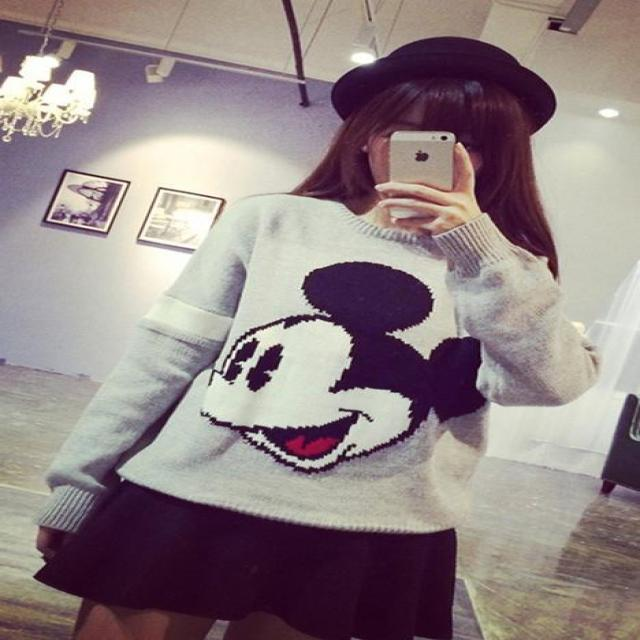long-sleeve-dress: (51, 160, 640, 536)
